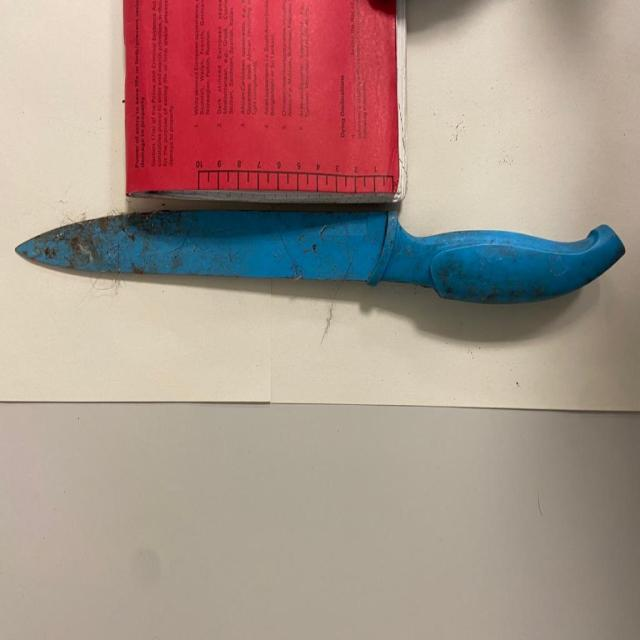Sharp-Object: (14, 203, 626, 306)
